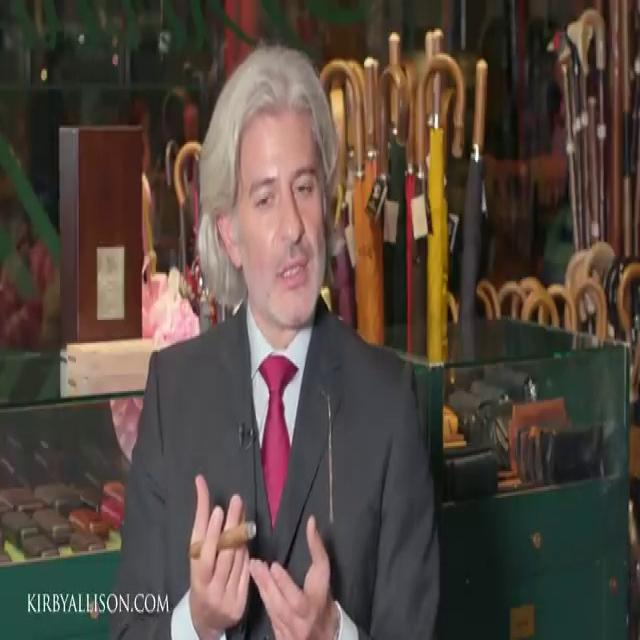Smooking: (183, 514, 266, 574)
